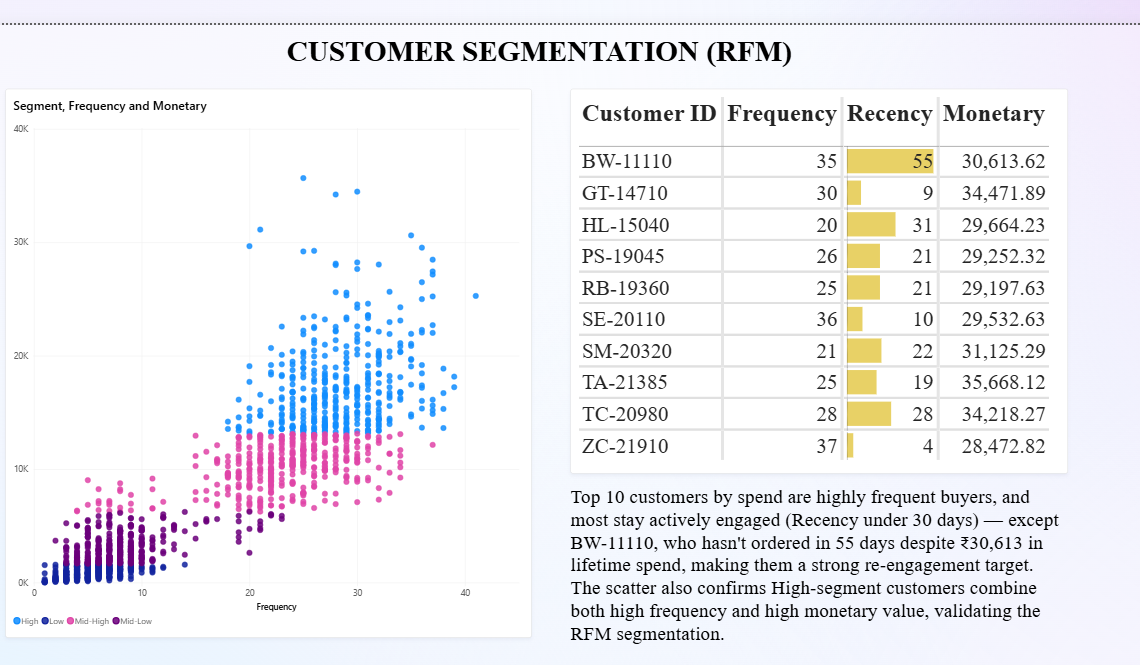

The dashboard page shown, as its layout file describes it:
{"tool":"powerbi","page":{"name":"Customer Segmentation","canvas":[1920,1080],"ordinal":4},"visuals":[{"type":"scatterChart","fields":{"Series":["rfm_output.Segment"],"X":["rfm_output.Frequency"],"Y":["rfm_output.Monetary"]},"box":[28.8,105,866.6,903.6],"z":0},{"type":"tableEx","fields":{"Values":["rfm_output.Customer ID","rfm_output.Frequency","rfm_output.Recency","rfm_output.Monetary"]},"box":[959.2,105,819.2,634],"z":1},{"type":"textbox","box":[959.2,757.5,819,270],"z":2},{"type":"textbox","box":[491.9,16.5,934.5,121.4],"z":3}]}

Visuals, with their boxes on the page's 1920x1080 design canvas (x1, y1, x2, y2). These are canvas units, not pixel positions in the 1140x665 screenshot, which may show the page scaled, cropped or inside an application window:
scatterChart - rfm_output.Segment x rfm_output.Frequency: crop(29, 105, 895, 1009)
tableEx - rfm_output.Customer ID x rfm_output.Frequency: crop(959, 105, 1778, 739)
textbox: crop(959, 758, 1778, 1028)
textbox: crop(492, 16, 1426, 138)
